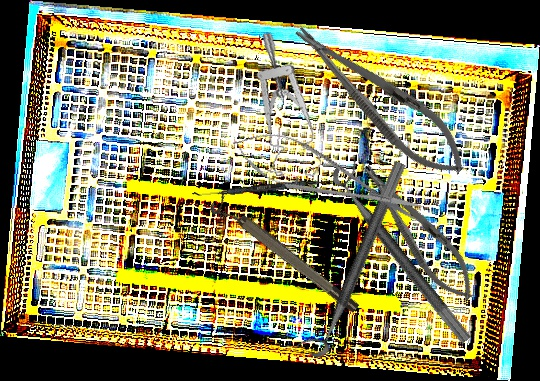Fixation Ring: (327, 155, 487, 345), (294, 153, 408, 361), (207, 190, 362, 322)
Micro Scissor: (224, 117, 430, 238)
Needle Holder: (281, 8, 480, 191), (351, 153, 486, 311)
Spatula Surgical: (192, 175, 335, 201)
Speculum: (239, 32, 342, 183)
